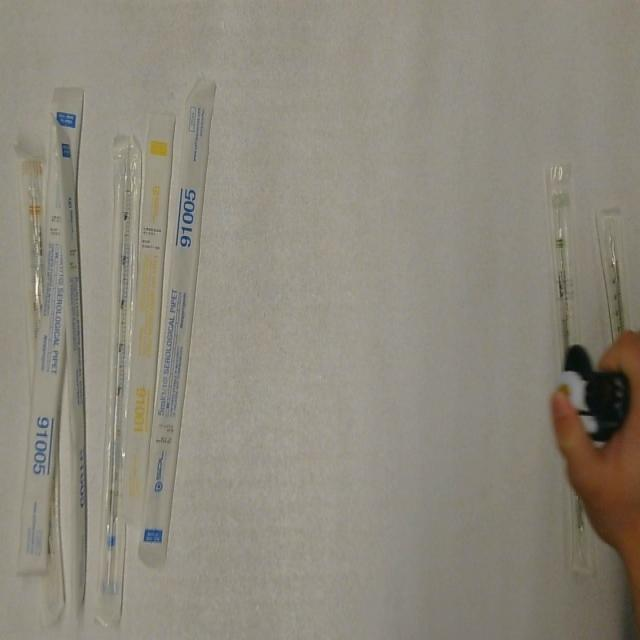Serelogical Pipet 1 mL - Sealed: (119, 108, 178, 533)
Serelogical Pipet 10 mL - Sealed: (18, 152, 50, 392)
Serelogical Pipet 2 mL - Sealed: (540, 162, 588, 372)
Serelogical Pipet 5 mL - Sealed: (134, 75, 220, 576), (16, 81, 87, 580), (92, 135, 145, 634), (50, 110, 90, 626)
Single Channel Pipettor: (554, 336, 636, 455)
